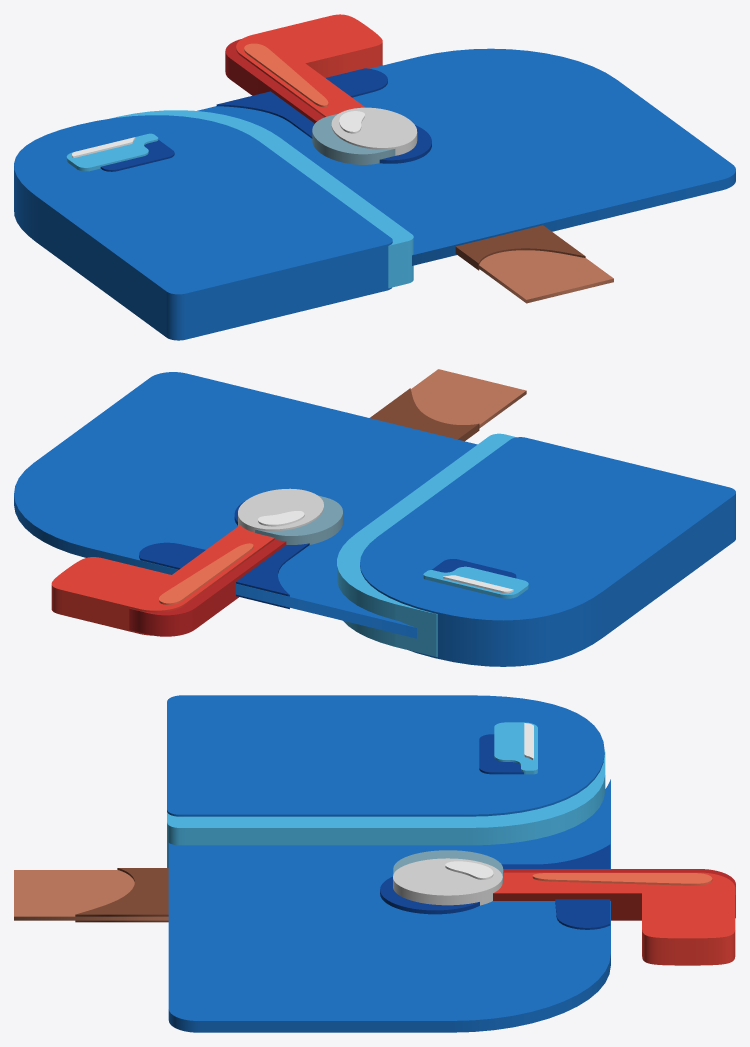
Rendered from emoji_u1f4eb.glb.
The picture shows the model from 3 angles, top to bottom: view 1: azimuth 30°, elevation 25°; view 2: azimuth 150°, elevation 25°; view 3: azimuth 270°, elevation 25°; orthographic projection. The views are drawn at different scales.
Visible parts, largest first — view 1: emoji_u1f4eb; view 2: emoji_u1f4eb; view 3: emoji_u1f4eb.
Boxes of the visible parts, x1,y1,x2,y2 form: emoji_u1f4eb: [14, 14, 735, 340]; emoji_u1f4eb: [14, 369, 735, 666]; emoji_u1f4eb: [14, 695, 735, 1032].
Bounding box in the file's own units: 0.0338 × 0.0032 × 0.0337.
